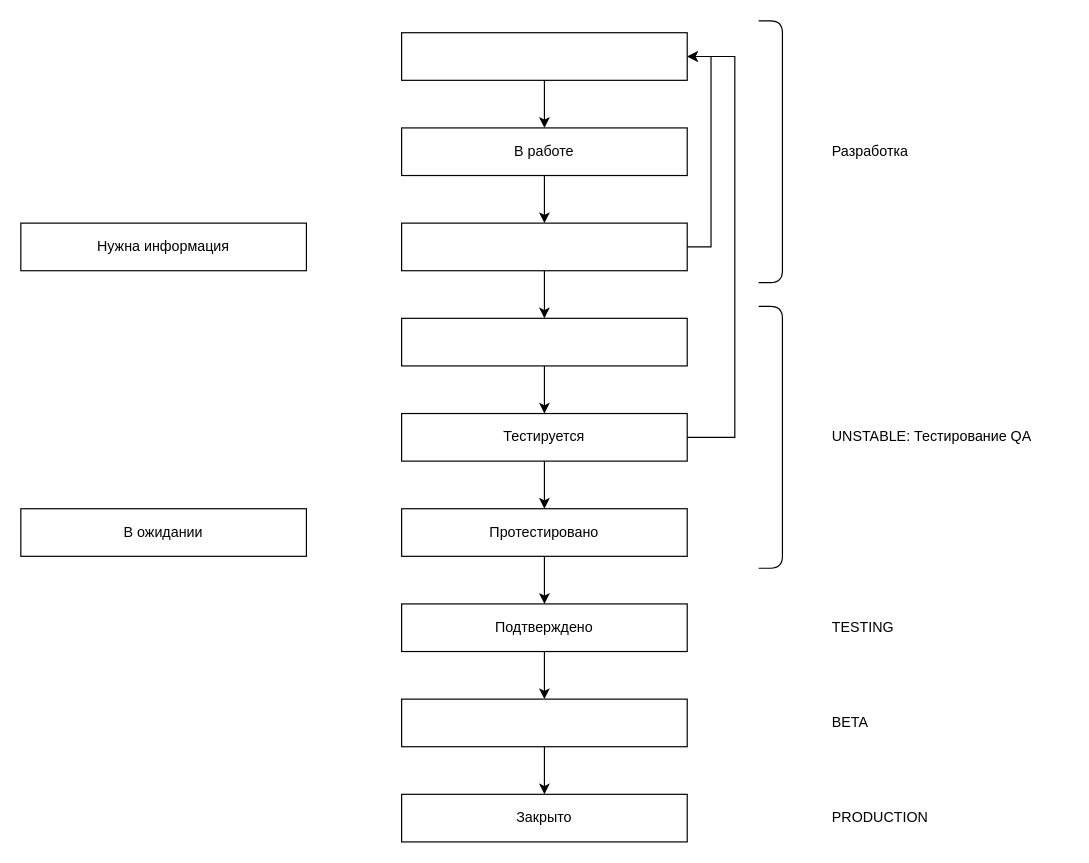
Some shapes in this 1089 by 863 pixel diagram are drawn without their labels. Each missing label, with the centre of its shape:
"В ревью" goes at (543,246).
"Готов к релизу" goes at (543,722).
"Можно тестировать" goes at (543,341).
"Открыта" goes at (543,56).
